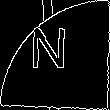N_S: (34, 29, 76, 81)
